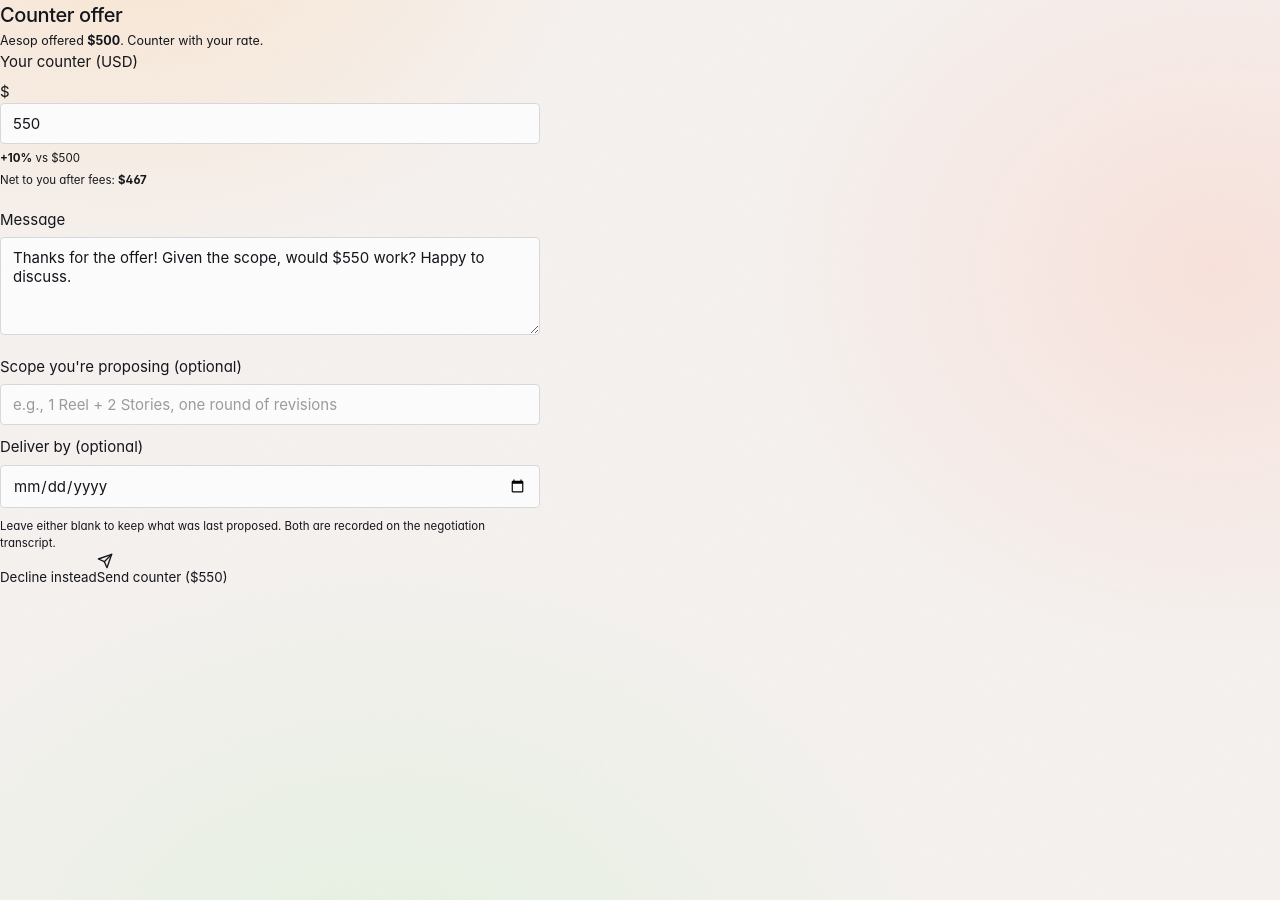
Scenario: CounterOfferModal › keeps Send enabled at a normal counter rate (under 10×)
This screenshot has width=1280, height=900.
Replace the text in the number field with "750" at (270, 123), box [0,103,540,144]
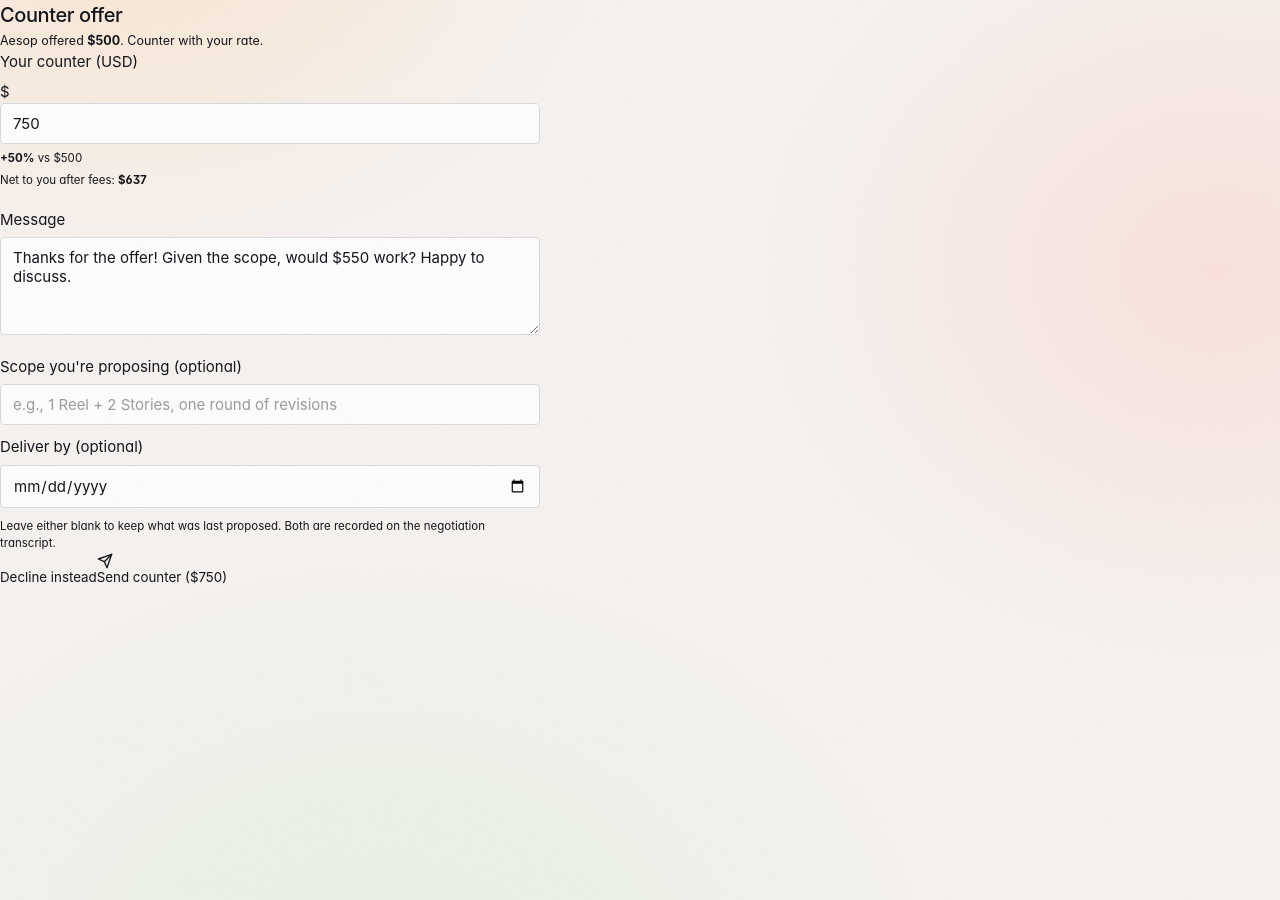
Expected: the button "Send counter ($750)" is enabled, [97,553,227,585]
Expected: the text "+50%" is shown, [0,151,34,165]
